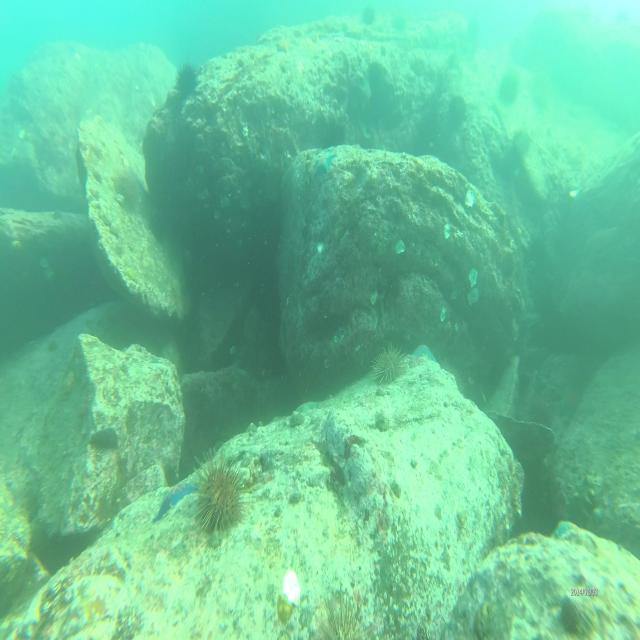echinus: (198, 453, 246, 536), (321, 600, 370, 640), (373, 344, 407, 384), (112, 175, 142, 211), (176, 63, 197, 101), (448, 95, 468, 126), (500, 75, 518, 105), (513, 130, 531, 158)
starfish: (156, 474, 197, 523), (557, 515, 596, 546), (313, 149, 335, 181)
